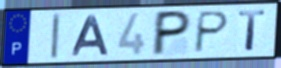4: (116, 11, 147, 57)
A: (70, 14, 111, 57)
I: (49, 12, 62, 61)
P: (149, 9, 194, 58), (192, 10, 232, 55)
T: (237, 9, 268, 53)
